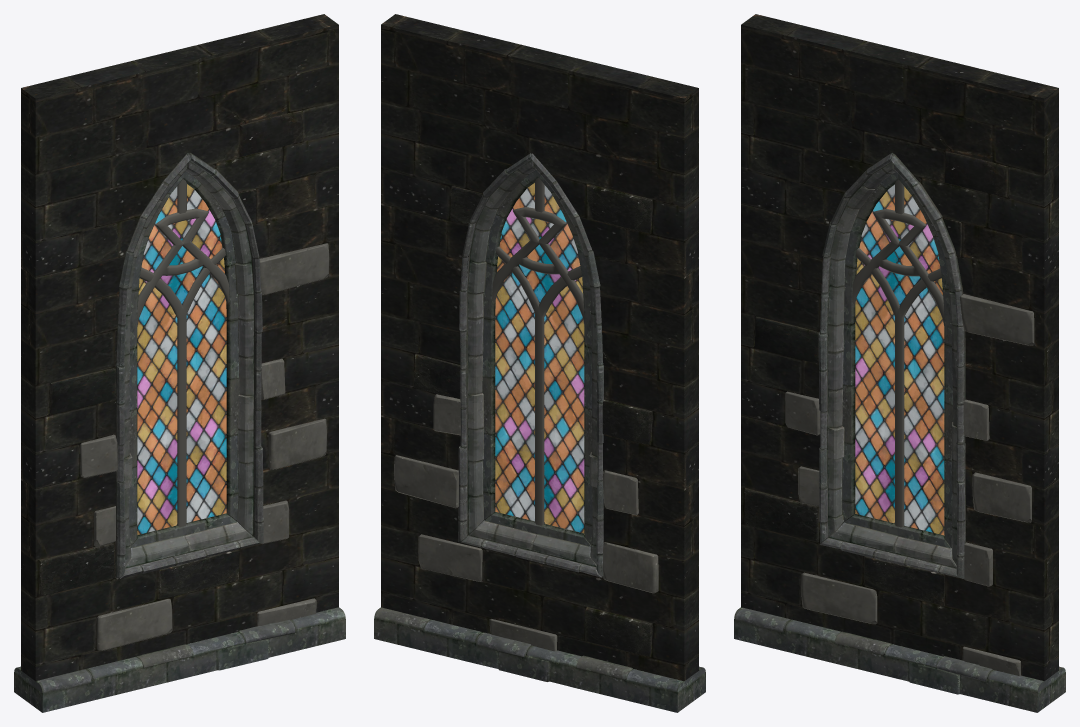
3 renders of one model, left to right at view 1: azimuth 30°, elevation 25°; view 2: azimuth 150°, elevation 25°; view 3: azimuth 330°, elevation 25°, orthographic.
Visible parts, largest first — view 1: SM_DeathTemple_Window_6x12_02_v1_LOD0; view 2: SM_DeathTemple_Window_6x12_02_v1_LOD0; view 3: SM_DeathTemple_Window_6x12_02_v1_LOD0.
Boxes of the visible parts, x1,y1,x2,y2 form: SM_DeathTemple_Window_6x12_02_v1_LOD0: (14, 14, 345, 712); SM_DeathTemple_Window_6x12_02_v1_LOD0: (374, 14, 705, 712); SM_DeathTemple_Window_6x12_02_v1_LOD0: (734, 14, 1065, 712).
Bounding box in the file's own units: 6 × 11.51 × 1.04.
Materials: 4 (4 with a texture image).
